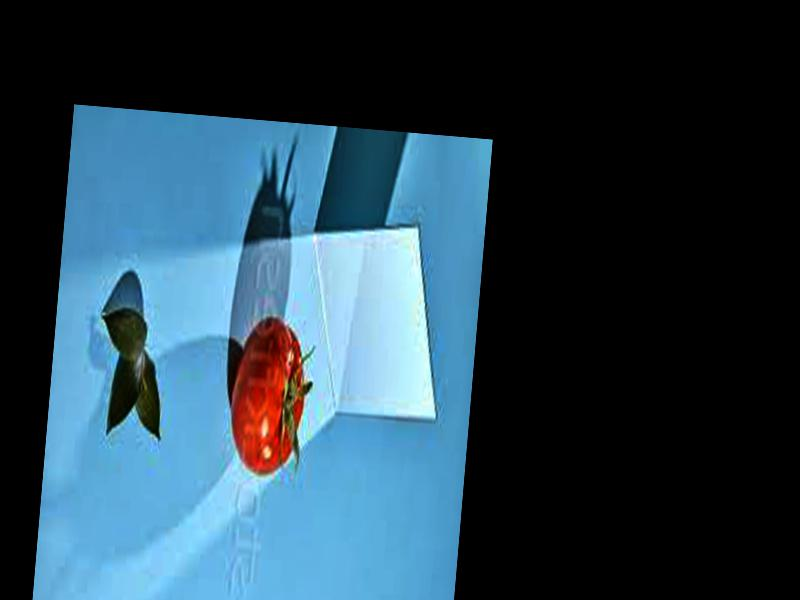Tomato: (224, 314, 311, 482)
